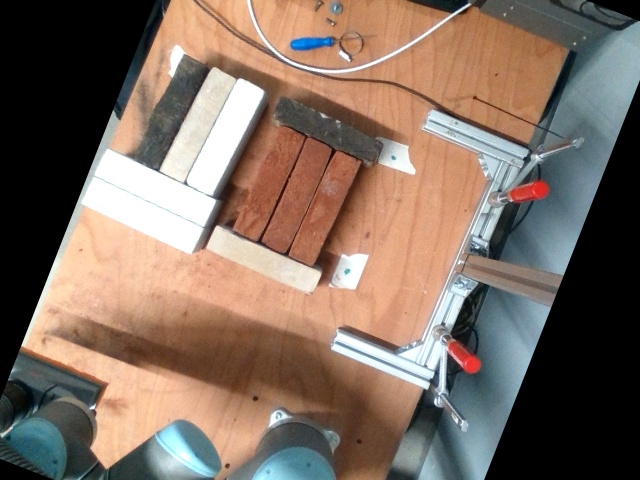brick-side: (185, 76, 264, 195), (158, 65, 237, 184), (81, 177, 201, 254), (95, 150, 215, 227), (131, 53, 208, 168), (232, 125, 304, 240), (288, 150, 359, 265), (261, 138, 332, 253), (206, 226, 320, 293), (272, 96, 383, 164)
